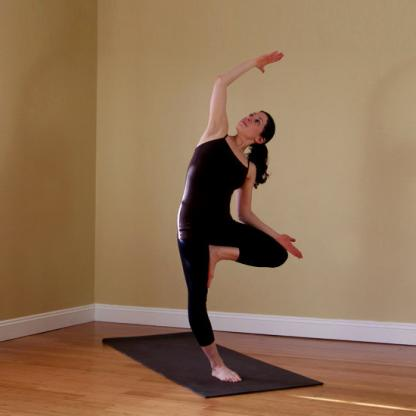tree: (157, 43, 310, 389)
